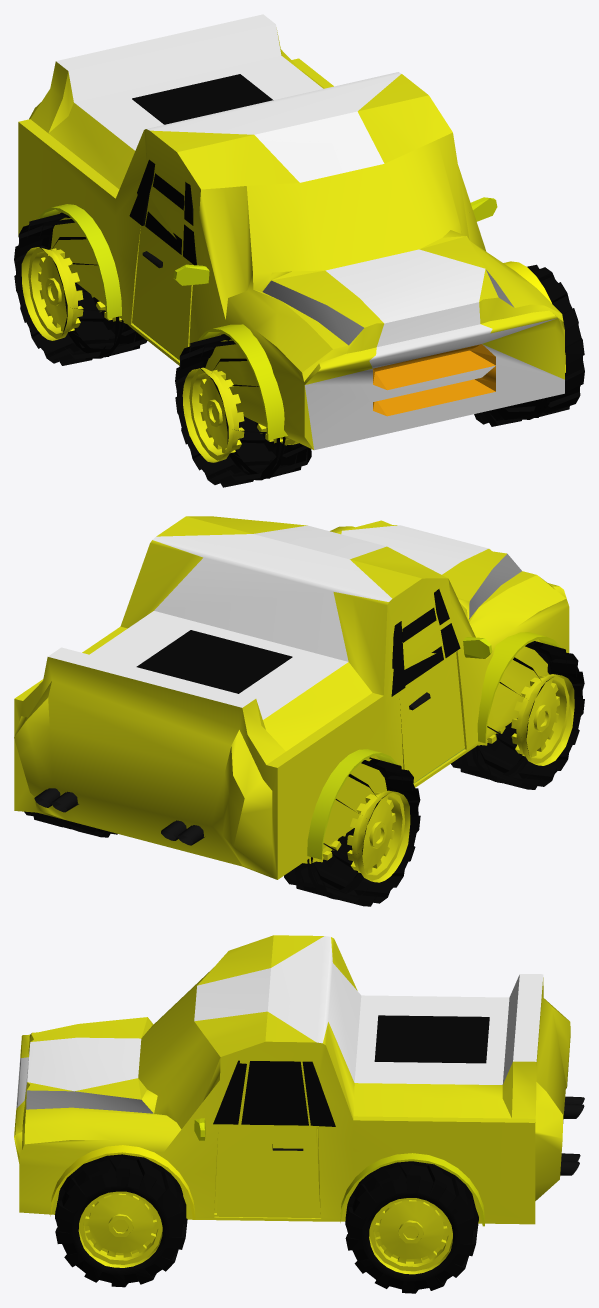
The model's file is car1_LOD1.fbx.
3 views of the same model, one above another, from view 1: azimuth 30°, elevation 25°; view 2: azimuth 150°, elevation 25°; view 3: azimuth 270°, elevation 25° (orthographic). The views are drawn at different scales.
Parts seen in each view (by area): view 1: car1; view 2: car1; view 3: car1.
Part boxes in pixels (x1,y1,x2,y2): car1: (14, 14, 584, 487); car1: (14, 516, 584, 906); car1: (14, 935, 584, 1293).
Bounding box in the file's own units: 130 × 88.92 × 200.
